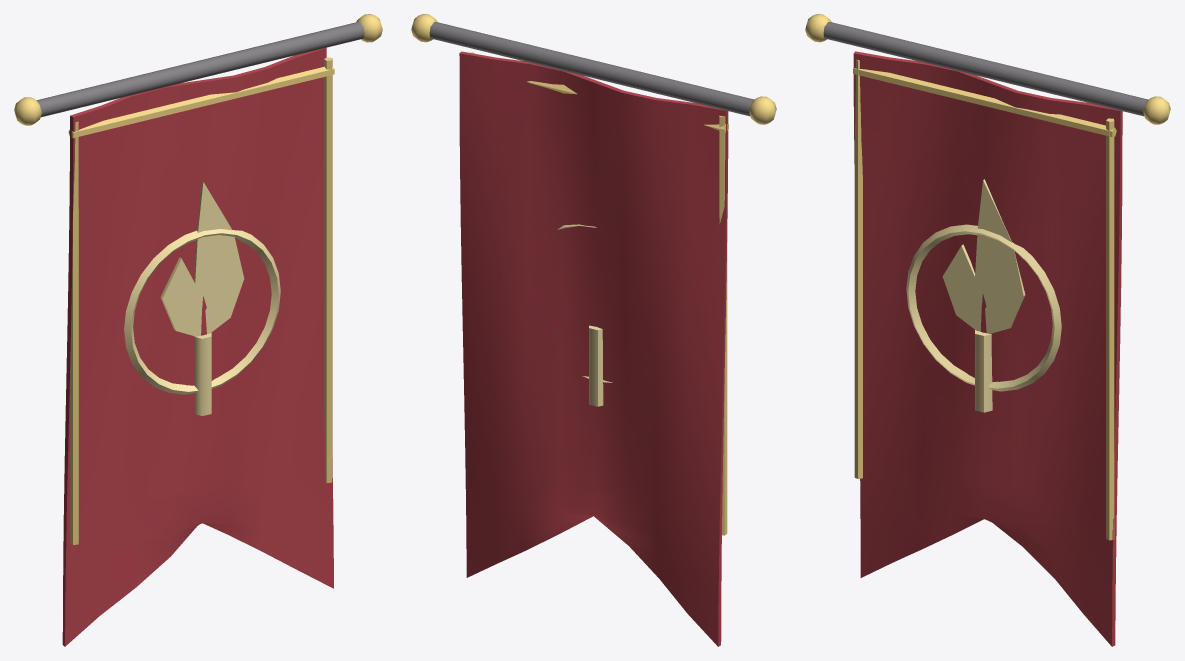
File: banner.glb
3 renders of one model, left to right at view 1: azimuth 30°, elevation 25°; view 2: azimuth 150°, elevation 25°; view 3: azimuth 330°, elevation 25°, orthographic.
Visible parts, largest first — view 1: banner; view 2: banner; view 3: banner.
Part boxes in pixels (x1,y1,x2,y2): banner: (14, 14, 382, 646); banner: (411, 14, 776, 646); banner: (805, 14, 1170, 646).
Bounding box in the file's own units: 0.644 × 0.9421 × 0.0479.
